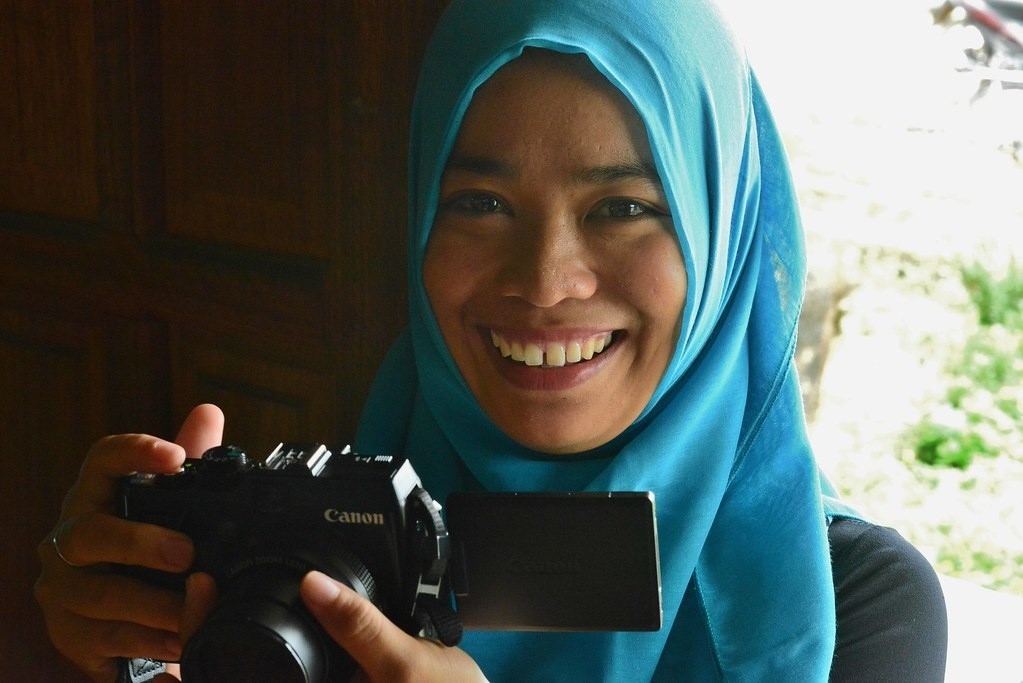face_no_mask: (417, 35, 719, 468)
